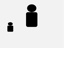human: (24, 2, 39, 28), (5, 20, 15, 33)
